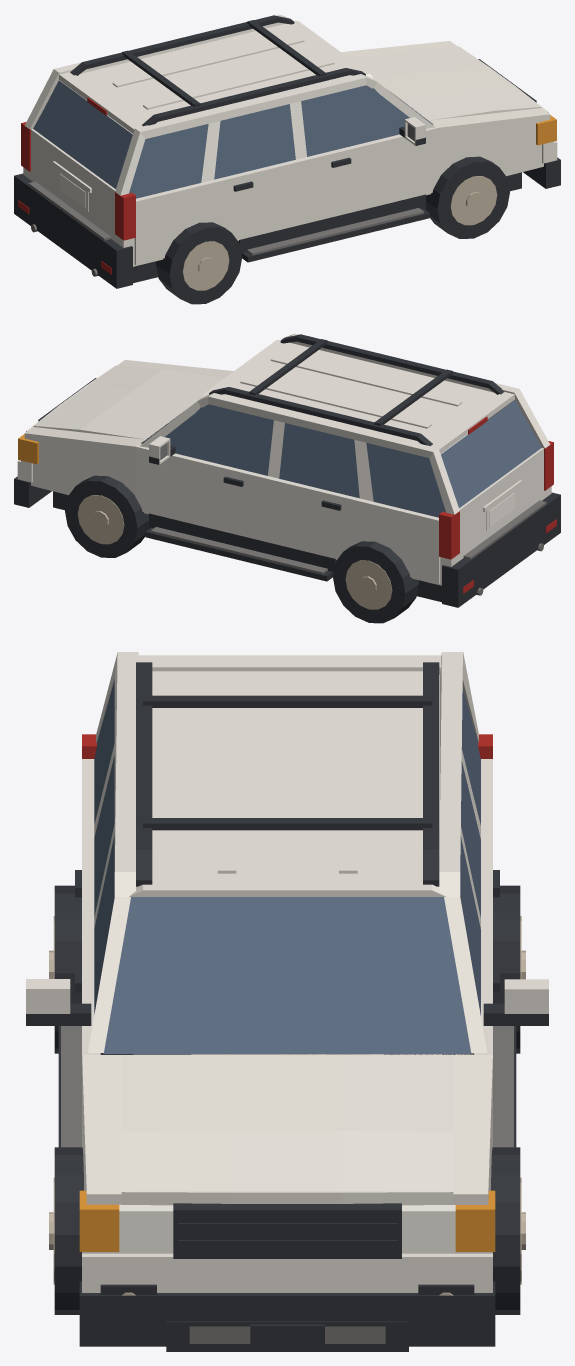
The model's file is q2 suv.fbx.
3 views of the same model, one above another, from view 1: azimuth 30°, elevation 25°; view 2: azimuth 150°, elevation 25°; view 3: azimuth 270°, elevation 25° (orthographic). The views are drawn at different scales.
Parts seen in each view (by area): view 1: A_Pillar_L, a__, wheel1, wheel2, a__.001; view 2: A_Pillar_L, a__.001, wheel3, wheel.001, a__; view 3: A_Pillar_L, a__.001, a__, wheel2, wheel.001, wheel3, wheel1.
Boxes of the visible parts, x1,y1,x2,y2 form: A_Pillar_L: (14, 14, 560, 288); a__: (134, 108, 550, 264); wheel1: (156, 222, 242, 304); wheel2: (425, 156, 509, 238); a__.001: (341, 41, 456, 58); A_Pillar_L: (14, 333, 560, 607); a__.001: (24, 427, 440, 583); wheel3: (332, 541, 418, 623); wheel.001: (65, 475, 149, 557); a__: (118, 360, 233, 377); A_Pillar_L: (26, 652, 548, 1351); a__.001: (453, 759, 492, 1204); a__: (82, 759, 121, 1204); wheel2: (49, 1147, 83, 1314); wheel.001: (491, 1147, 525, 1314); wheel3: (493, 885, 525, 1053); wheel1: (49, 885, 81, 1053).
Size of the model in its own units: 444 by 171 by 224.
